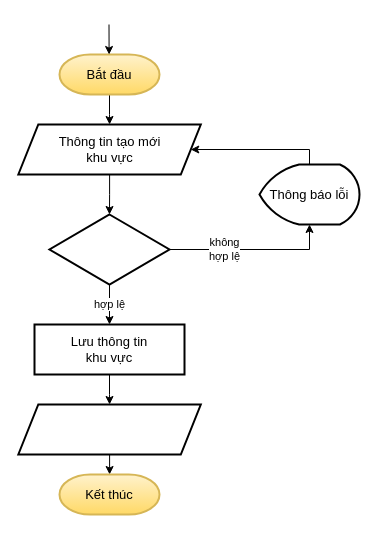
Some shapes in this 378 by 533 pixel diagram are drawn without their labels. The centre of each missing label's shape, as x and y in pixels:
"Kiểm tra dữ liệu" goes at (109,249).
"Thông tin khu vực vừa tạo" goes at (109,429).
